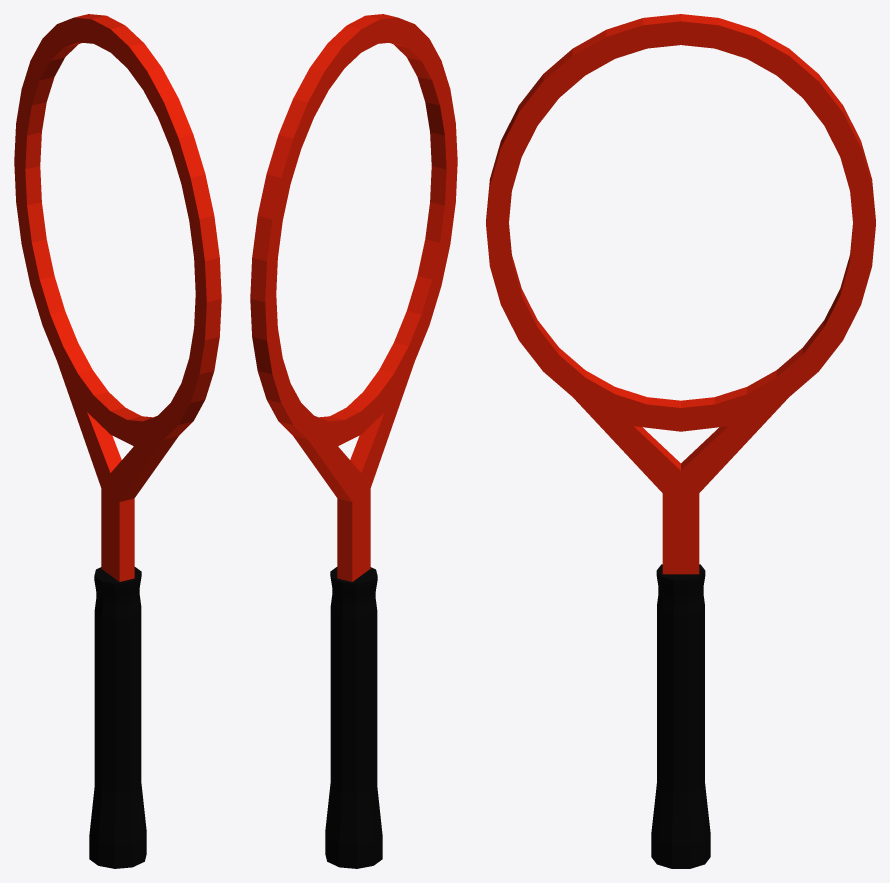
Rendered from racket.fbx.
3 renders of one model, left to right at view 1: azimuth 30°, elevation 25°; view 2: azimuth 150°, elevation 25°; view 3: azimuth 270°, elevation 25°, orthographic.
Parts seen in each view (by area): view 1: Raqueta; view 2: Raqueta; view 3: Raqueta.
Part boxes in pixels (left/top/right/bottom): Raqueta: left=14, top=14, right=221, bottom=868; Raqueta: left=250, top=14, right=457, bottom=868; Raqueta: left=486, top=14, right=875, bottom=868.
Bounding box in the file's own units: 28.23 × 463 × 195.
